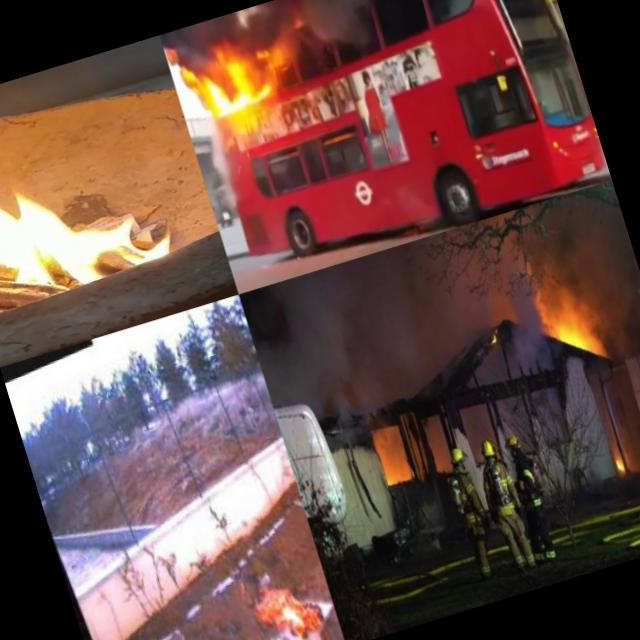fire: (0, 56, 158, 333), (174, 34, 286, 122), (242, 568, 325, 640), (540, 296, 610, 370), (611, 446, 632, 478)
smoke: (278, 224, 516, 442), (257, 0, 549, 66), (486, 264, 558, 382)
